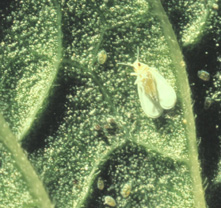whitefly: (117, 42, 178, 119)
